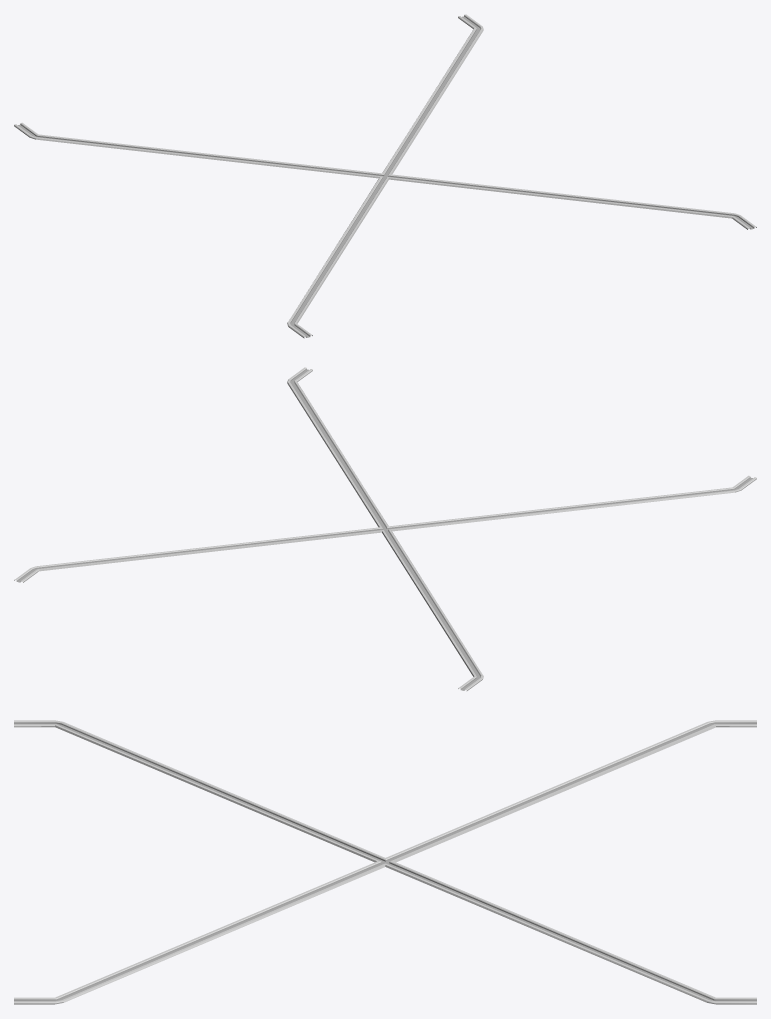
The model's file is mesh_Spaceship_Hockey_Rails.fbx.
The picture shows the model from 3 angles, top to bottom: view 1: azimuth 30°, elevation 25°; view 2: azimuth 150°, elevation 25°; view 3: azimuth 270°, elevation 25°; orthographic projection. The views are drawn at different scales.
Parts seen in each view (by area): view 1: mesh_Spaceship_Rail_1.002; view 2: mesh_Spaceship_Rail_1.002; view 3: mesh_Spaceship_Rail_1.002.
Part boxes in pixels (bbox=[...]): mesh_Spaceship_Rail_1.002: bbox=[14, 14, 756, 338]; mesh_Spaceship_Rail_1.002: bbox=[14, 367, 756, 691]; mesh_Spaceship_Rail_1.002: bbox=[14, 720, 756, 1004].
Bounding box in the file's own units: 30.73 × 0.0969 × 34.13.
